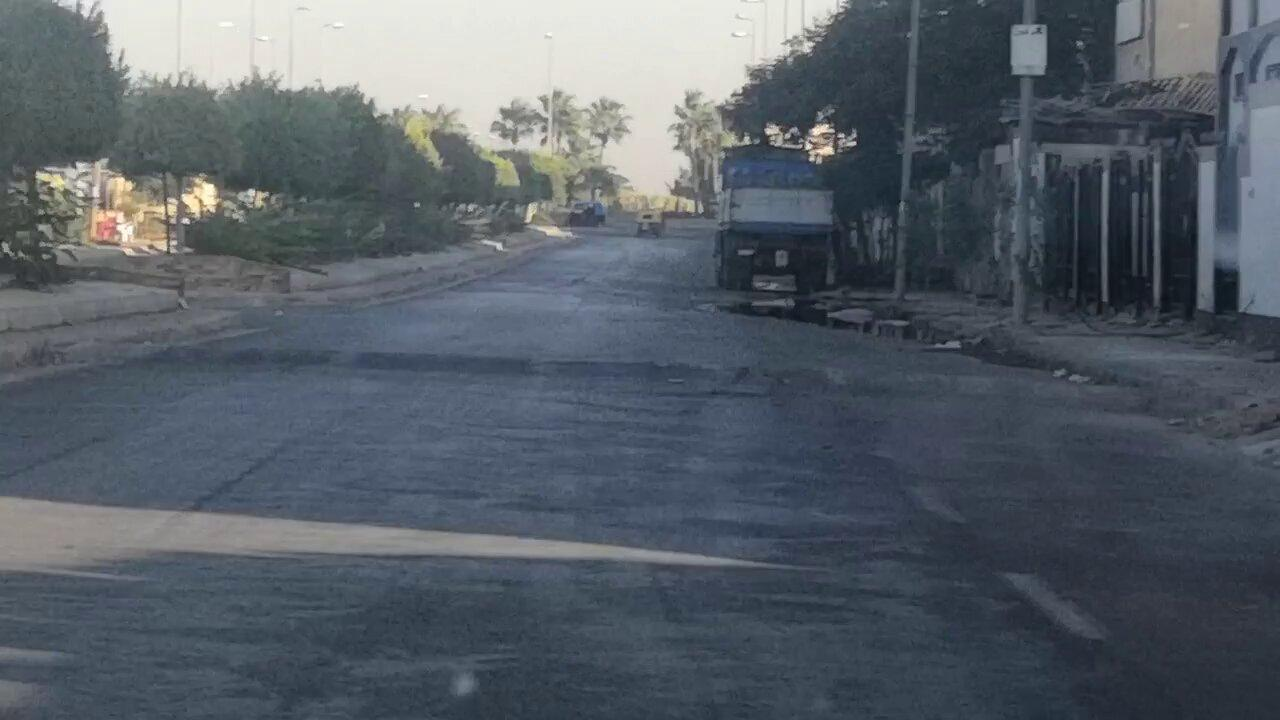Bump: (205, 327, 1150, 425)
